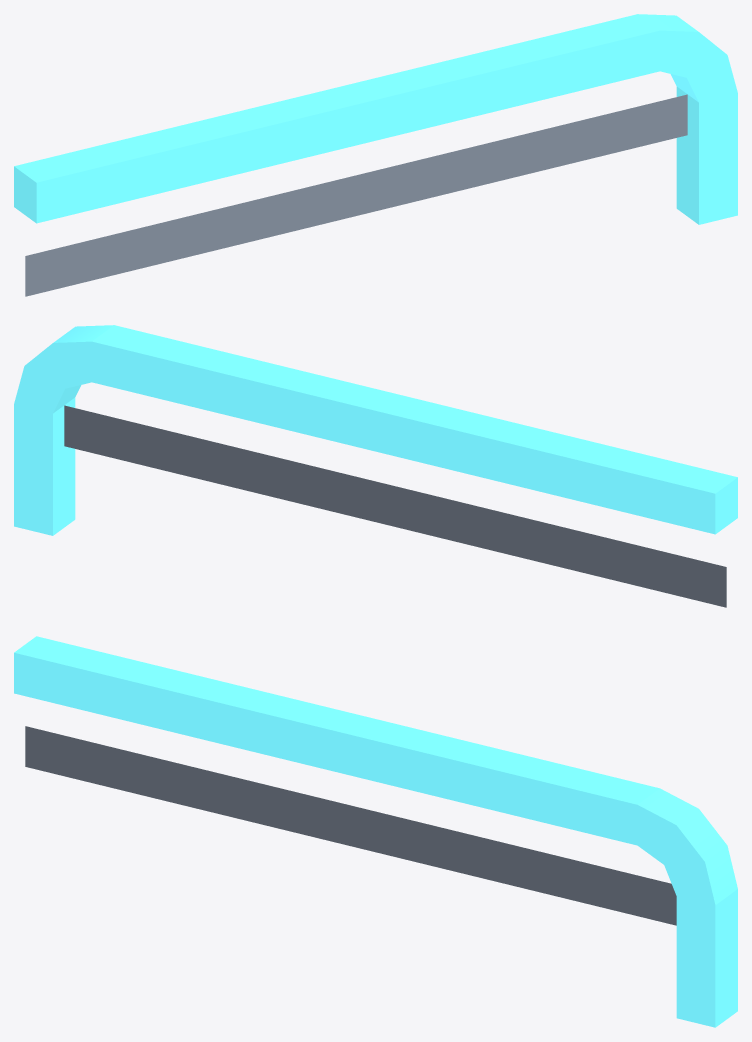
File: rail_end.glb
3 renders of one model, top to bottom at view 1: azimuth 30°, elevation 25°; view 2: azimuth 150°, elevation 25°; view 3: azimuth 330°, elevation 25°, orthographic.
Visible parts, largest first — view 1: rail_end; view 2: rail_end; view 3: rail_end.
Part boxes in pixels (x1,y1,x2,y2): rail_end: (14,14,737,296); rail_end: (14,325,737,607); rail_end: (14,636,737,1027).
Bounding box in the file's own units: 0.9 × 0.25 × 0.05.
